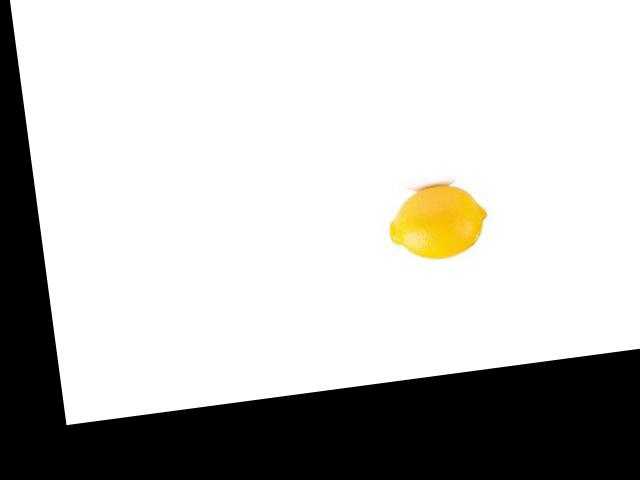lemon: (376, 181, 497, 270)
